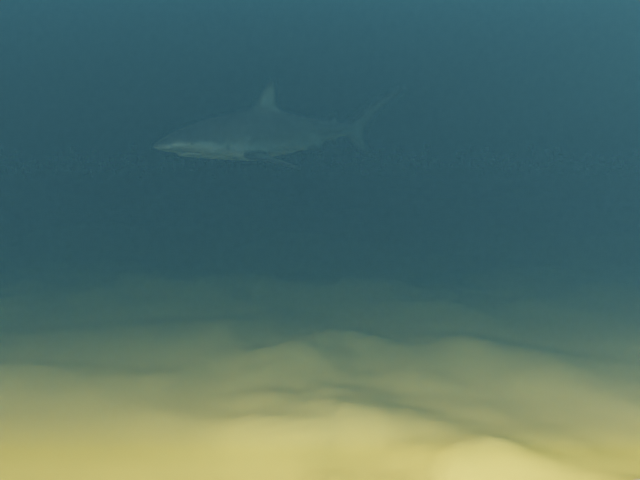Carribean Shark.001: (153, 79, 404, 168)
